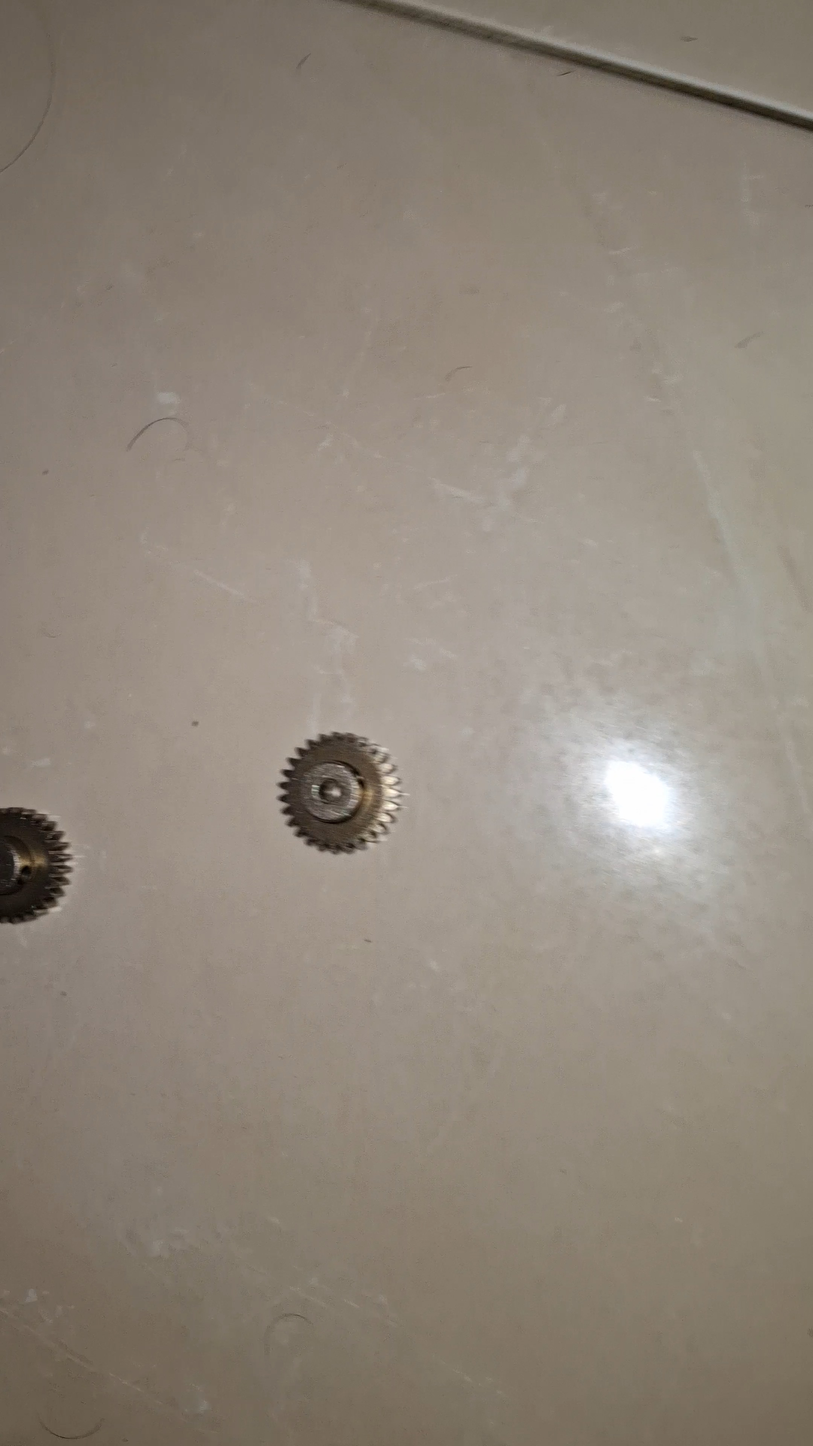spur gear: (280, 732, 402, 853), (0, 808, 70, 923)
